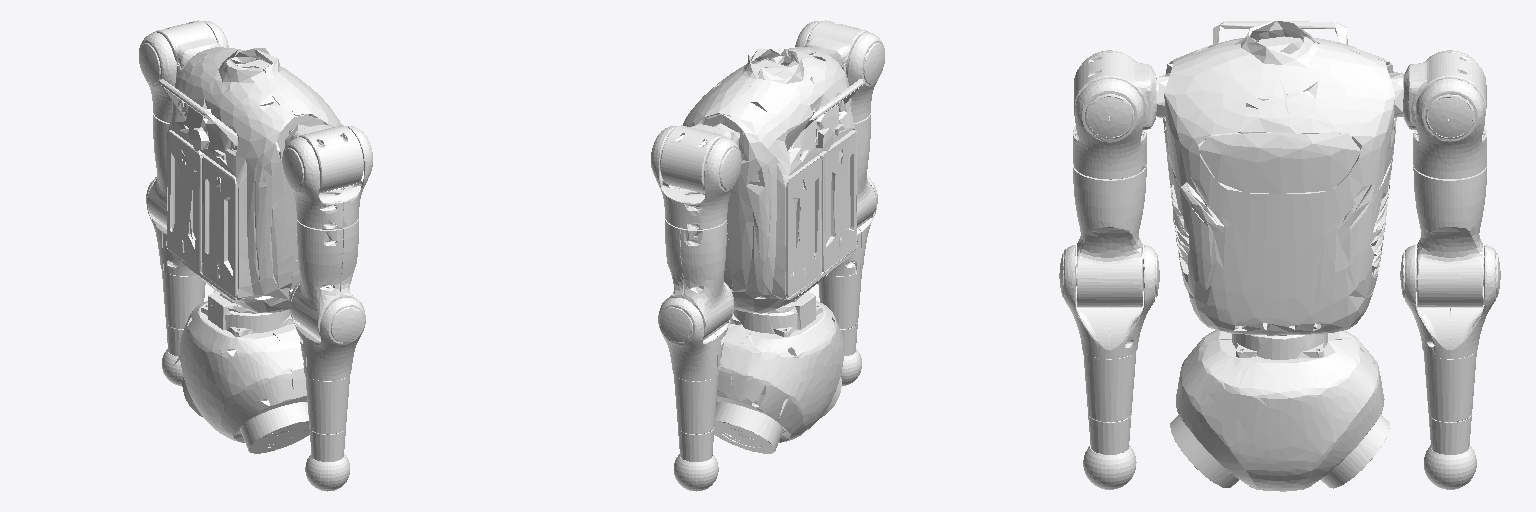
The robot description file, URDF, robot "biped_v3_arm":
<?xml version="1.0" ?>
<!-- =================================================================================== -->
<!-- |    This document was autogenerated by xacro from [local-path]/workspace/kuavo-ros-control/src/humanoid-control/humanoid_interface_drake/models/biped_gen4.0/urdf/biped_v3_arm.xacro | -->
<!-- |    EDITING THIS FILE BY HAND IS NOT RECOMMENDED                                 | -->
<!-- =================================================================================== -->
<robot name="biped_v3_arm" xmlns:drake="https://drake.mit.edu">
  <link name="torso">
    <inertial>
      <origin xyz="0.00227055 6.536e-05 0.1163574" rpy="0 0 0" />
      <mass value="7.34228758" />
      <inertia ixx="0.06356019" ixy="-4.28e-05" ixz="0.00087983" iyy="0.05314952" iyz="1.365e-05" izz="0.03434989" />
    </inertial>
    <visual>
      <origin xyz="0 0 0" rpy="0 0 0" />
      <geometry>
        <mesh filename="../../meshes/torso.STL" />
      </geometry>
      <material name="">
        <color rgba="1 1 1 1" />
      </material>
    </visual>
  </link>
  <link name="waist">
    <inertial>
      <origin xyz="0.0016929 2.043e-05 -0.11846153" rpy="0 0 0" />
      <mass value="5.17438719" />
      <inertia ixx="0.02255479" ixy="4.3e-05" ixz="-6.6e-05" iyy="0.01532956" iyz="1.7e-05" izz="0.0166717" />
    </inertial>
    <visual>
      <origin xyz="0 0 0" rpy="0 0 0" />
      <geometry>
        <mesh filename="../../meshes/waist.STL" />
      </geometry>
      <material name="">
        <color rgba="1 1 1 1" />
      </material>
    </visual>
  </link>
  <joint name="waist" type="fixed">
    <origin xyz="0 0 0" rpy="0 0 0" />
    <parent link="torso" />
    <child link="waist" />
    <axis xyz="0 0 1" />
    <limit lower="-2.0943951023932" upper="2.0943951023932" effort="50" velocity="8.37333333333333" />
  </joint>
  <!-- =========================================================== Arms ================================================================= -->
  <link name="zarm_l1_link">
    <inertial>
      <origin xyz="0.00335591 -0.00249177 1.895e-05" rpy="0 0 0" />
      <mass value="0.44491793" />
      <inertia ixx="0.00028057" ixy="3.5e-05" ixz="2.3e-05" iyy="0.00024754" iyz="7e-05" izz="0.0002873" />
    </inertial>
    <visual>
      <origin xyz="0 0 0" rpy="0 0 0" />
      <geometry>
        <mesh filename="../../meshes/l_arm_pitch.STL" />
      </geometry>
      <material name="">
        <color rgba="1 1 1 1" />
      </material>
    </visual>
  </link>
  <joint name="zarm_l1_joint" type="revolute">
    <origin xyz="0.0073474151 0.16250437899999998 0.20242688398" rpy="0 0 0" />
    <parent link="torso" />
    <child link="zarm_l1_link" />
    <axis xyz="0 1 0" />
    <limit lower="-3.14159265358979" upper="0.0" effort="12" velocity="7.32666666666667" />
  </joint>
  <transmission type="SimpleTransmission">
    <joint name="zarm_l1_joint" />
    <actuator name="zarm_l1_joint_motor" />
  </transmission>
  <link name="zarm_l2_link">
    <inertial>
      <origin xyz="0.00025941 0.0 -0.03684584" rpy="0 0 0" />
      <mass value="0.2598439" />
      <inertia ixx="0.0003221" ixy="0.0" ixz="-6.2e-05" iyy="0.00043526" iyz="0.0" izz="0.00030902" />
    </inertial>
    <visual>
      <origin xyz="0 0 0" rpy="0 0 0" />
      <geometry>
        <mesh filename="../../meshes/l_arm_roll.STL" />
      </geometry>
      <material name="">
        <color rgba="1 1 1 1" />
      </material>
    </visual>
  </link>
  <joint name="zarm_l2_joint" type="revolute">
    <origin xyz="0 0 0" rpy="0 0 0" />
    <parent link="zarm_l1_link" />
    <child link="zarm_l2_link" />
    <axis xyz="1 0 0" />
    <limit lower="-0.349065850398866" upper="3.49065850398866" effort="12" velocity="7.32666666666667" />
  </joint>
  <transmission type="SimpleTransmission">
    <joint name="zarm_l2_joint" />
    <actuator name="zarm_l2_joint_motor" />
  </transmission>
  <link name="zarm_l3_link">
    <inertial>
      <origin xyz="-0.0001383 -0.00323921 -0.14314847" rpy="0 0 0" />
      <mass value="0.77406554" />
      <inertia ixx="0.00201794" ixy="-2.6e-05" ixz="-3e-05" iyy="0.00198657" iyz="-0.00011116" izz="0.00042873" />
    </inertial>
    <visual>
      <origin xyz="0 0 0" rpy="0 0 0" />
      <geometry>
        <mesh filename="../../meshes/l_arm_yaw.STL" />
      </geometry>
      <material name="">
        <color rgba="1 1 1 1" />
      </material>
    </visual>
  </link>
  <joint name="zarm_l3_joint" type="revolute">
    <origin xyz="0 0 0" rpy="0 0 0" />
    <parent link="zarm_l2_link" />
    <child link="zarm_l3_link" />
    <axis xyz="0 0 1" />
    <limit lower="-1.5707963267949" upper="1.5707963267949" effort="12" velocity="7.32666666666667" />
  </joint>
  <transmission type="SimpleTransmission">
    <joint name="zarm_l3_joint" />
    <actuator name="zarm_l3_joint_motor" />
  </transmission>
  <link name="zarm_l4_link">
    <inertial>
      <origin xyz="-0.00091965 -2.274e-05 -0.06567892" rpy="0 0 0" />
      <mass value="0.2274965" />
      <inertia ixx="0.00109021" ixy="-6.4e-05" ixz="8.8e-05" iyy="0.00099134" iyz="-1.9e-05" izz="0.00021171" />
    </inertial>
    <visual>
      <origin xyz="0 0 0" rpy="0 0 0" />
      <geometry>
        <mesh filename="../../meshes/l_forearm.STL" />
      </geometry>
      <material name="">
        <color rgba="1 1 1 1" />
      </material>
    </visual>
  </link>
  <joint name="zarm_l4_joint" type="revolute">
    <origin xyz="0 0 -0.188" rpy="0 0 0" />
    <parent link="zarm_l3_link" />
    <child link="zarm_l4_link" />
    <axis xyz="0 1 0" />
    <limit lower="-2.26892802759263" upper="0.0" effort="12" velocity="7.32666666666667" />
  </joint>
  <transmission type="SimpleTransmission">
    <joint name="zarm_l4_joint" />
    <actuator name="zarm_l4_joint_motor" />
  </transmission>
  <link name="zarm_r1_link">
    <inertial>
      <origin xyz="0.00335581 0.00249177 1.809e-05" rpy="0 0 0" />
      <mass value="0.44491659" />
      <inertia ixx="0.00028057" ixy="-3.5e-05" ixz="2.4e-05" iyy="0.00024753" iyz="-6e-05" izz="0.00028729" />
    </inertial>
    <visual>
      <origin xyz="0 0 0" rpy="0 0 0" />
      <geometry>
        <mesh filename="../../meshes/r_arm_pitch.STL" />
      </geometry>
      <material name="">
        <color rgba="1 1 1 1" />
      </material>
    </visual>
  </link>
  <joint name="zarm_r1_joint" type="revolute">
    <origin xyz="0.0073474151 -0.16250437899999998 0.20242688398" rpy="0 0 0" />
    <parent link="torso" />
    <child link="zarm_r1_link" />
    <axis xyz="0 1 0" />
    <limit lower="-3.14159265358979" upper="0.0" effort="12" velocity="7.32666666666667" />
  </joint>
  <transmission type="SimpleTransmission">
    <joint name="zarm_r1_joint" />
    <actuator name="zarm_r1_joint_motor" />
  </transmission>
  <link name="zarm_r2_link">
    <inertial>
      <origin xyz="0.0002594 0.0 -0.03684556" rpy="0 0 0" />
      <mass value="0.25983512" />
      <inertia ixx="0.00032209" ixy="0.0" ixz="-6.2e-05" iyy="0.00043526" iyz="0.0" izz="0.00030901" />
    </inertial>
    <visual>
      <origin xyz="0 0 0" rpy="0 0 0" />
      <geometry>
        <mesh filename="../../meshes/r_arm_roll.STL" />
      </geometry>
      <material name="">
        <color rgba="1 1 1 1" />
      </material>
    </visual>
  </link>
  <joint name="zarm_r2_joint" type="revolute">
    <origin xyz="0 0 0" rpy="0 0 0" />
    <parent link="zarm_r1_link" />
    <child link="zarm_r2_link" />
    <axis xyz="1 0 0" />
    <limit lower="-3.49065850398866" upper="0.349065850398866" effort="12" velocity="7.32666666666667" />
  </joint>
  <transmission type="SimpleTransmission">
    <joint name="zarm_r2_joint" />
    <actuator name="zarm_r2_joint_motor" />
  </transmission>
  <link name="zarm_r3_link">
    <inertial>
      <origin xyz="-0.00013784 0.00323927 -0.14314868" rpy="0 0 0" />
      <mass value="0.774042" />
      <inertia ixx="0.00201792" ixy="2.6e-05" ixz="-3e-05" iyy="0.00198653" iyz="0.00011115" izz="0.00042871" />
    </inertial>
    <visual>
      <origin xyz="0 0 0" rpy="0 0 0" />
      <geometry>
        <mesh filename="../../meshes/r_arm_yaw.STL" />
      </geometry>
      <material name="">
        <color rgba="1 1 1 1" />
      </material>
    </visual>
  </link>
  <joint name="zarm_r3_joint" type="revolute">
    <origin xyz="0 0 0" rpy="0 0 0" />
    <parent link="zarm_r2_link" />
    <child link="zarm_r3_link" />
    <axis xyz="0 0 1" />
    <limit lower="-1.5707963267949" upper="1.5707963267949" effort="12" velocity="7.32666666666667" />
  </joint>
  <transmission type="SimpleTransmission">
    <joint name="zarm_r3_joint" />
    <actuator name="zarm_r3_joint_motor" />
  </transmission>
  <link name="zarm_r4_link">
    <inertial>
      <origin xyz="-0.00091857 2.37e-05 -0.06568304" rpy="0 0 0" />
      <mass value="0.22747514" />
      <inertia ixx="0.00109014" ixy="6.5e-05" ixz="8.8e-05" iyy="0.00099128" iyz="1.7e-05" izz="0.00021169" />
    </inertial>
    <visual>
      <origin xyz="0 0 0" rpy="0 0 0" />
      <geometry>
        <mesh filename="../../meshes/r_forearm.STL" />
      </geometry>
      <material name="">
        <color rgba="1 1 1 1" />
      </material>
    </visual>
  </link>
  <joint name="zarm_r4_joint" type="revolute">
    <origin xyz="0 0 -0.188" rpy="0 0 0" />
    <parent link="zarm_r3_link" />
    <child link="zarm_r4_link" />
    <axis xyz="0 1 0" />
    <limit lower="-2.26892802759263" upper="0.0" effort="12" velocity="7.32666666666667" />
  </joint>
  <transmission type="SimpleTransmission">
    <joint name="zarm_r4_joint" />
    <actuator name="zarm_r4_joint_motor" />
  </transmission>
  <!-- end frame -->
  <!-- <frame link="l_hand_pitch" name="l_hand_sole" xyz="0 0 -0.1" /> -->
  <!-- end frame -->
  <!-- <frame link="r_hand_pitch" name="r_hand_sole" xyz="0 0 -0.1" /> -->
</robot>

--- What the picture shows (computed from the rendered views, not written in the file) ---
The picture shows the robot from 3 angles, left to right: view 1: azimuth 30°, elevation 25°; view 2: azimuth 150°, elevation 25°; view 3: azimuth 270°, elevation 25°; orthographic projection.
Robot: biped_v3_arm — 10 links, 9 joints (8 revolute, 1 fixed); root link torso; default pose: every joint at zero.
Visible links, largest first — view 1: torso, waist, zarm_r4_link, zarm_r3_link, zarm_r2_link, zarm_l4_link, zarm_r1_link, zarm_l2_link, zarm_l1_link, zarm_l3_link; view 2: torso, waist, zarm_l4_link, zarm_l3_link, zarm_l2_link, zarm_r4_link, zarm_l1_link, zarm_r2_link, zarm_r1_link, zarm_r3_link; view 3: torso, waist, zarm_l4_link, zarm_r4_link, zarm_r3_link, zarm_l3_link, zarm_r2_link, zarm_l2_link, zarm_r1_link, zarm_l1_link.
Link boxes in pixels (<box>): torso: <box>158,47,341,312</box>; waist: <box>173,291,309,453</box>; zarm_r4_link: <box>290,281,365,491</box>; zarm_r3_link: <box>291,219,363,338</box>; zarm_r2_link: <box>282,126,372,229</box>; zarm_l4_link: <box>146,177,205,385</box>; zarm_r1_link: <box>291,124,363,193</box>; zarm_l2_link: <box>139,21,228,122</box>; zarm_l1_link: <box>153,20,219,77</box>; zarm_l3_link: <box>147,113,169,225</box>; torso: <box>683,47,865,313</box>; waist: <box>714,291,843,453</box>; zarm_l4_link: <box>658,282,733,491</box>; zarm_l3_link: <box>661,219,732,338</box>; zarm_l2_link: <box>651,126,741,229</box>; zarm_r4_link: <box>818,177,877,385</box>; zarm_l1_link: <box>660,124,732,193</box>; zarm_r2_link: <box>795,21,884,122</box>; zarm_r1_link: <box>804,20,868,79</box>; zarm_r3_link: <box>854,113,875,225</box>; torso: <box>1156,21,1403,334</box>; waist: <box>1170,330,1389,491</box>; zarm_l4_link: <box>1400,245,1500,489</box>; zarm_r4_link: <box>1059,245,1159,489</box>; zarm_r3_link: <box>1073,164,1146,306</box>; zarm_l3_link: <box>1413,165,1486,306</box>; zarm_r2_link: <box>1073,50,1146,179</box>; zarm_l2_link: <box>1413,50,1486,178</box>; zarm_r1_link: <box>1074,52,1158,129</box>; zarm_l1_link: <box>1403,52,1486,129</box>.
Bounding box of the posed robot: 0.1812 × 0.4212 × 0.4773 m (x, y, z).
Meshes: 10 distinct files referenced, 10 mesh visuals loaded (10 binary STL).